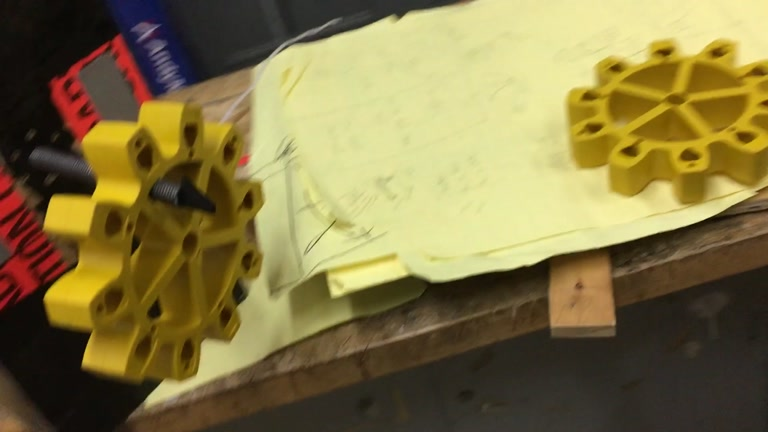gear: (43, 100, 265, 385), (565, 36, 768, 204)
